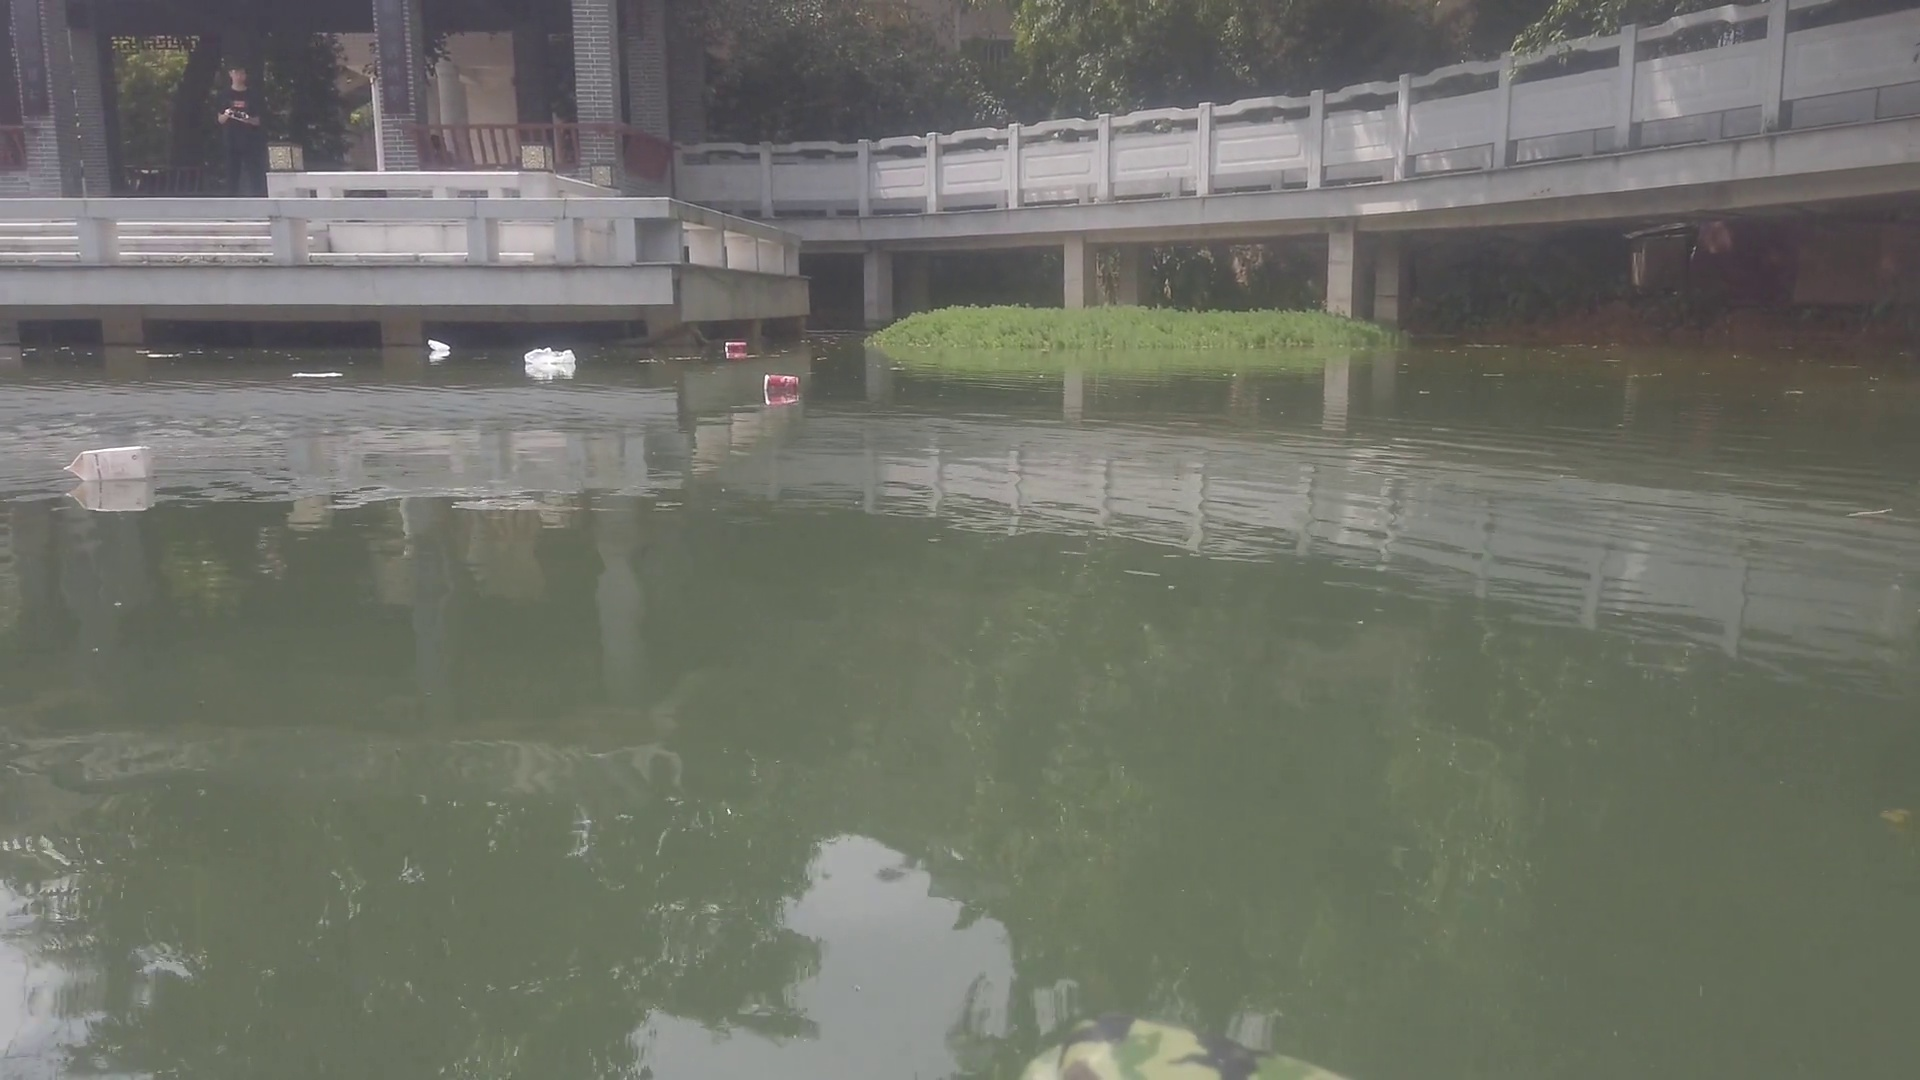bottle: (760, 373, 799, 392), (723, 339, 749, 355)
carton: (54, 444, 156, 479)
paper: (290, 367, 342, 380)
plastic: (520, 345, 574, 367), (427, 339, 454, 349)
